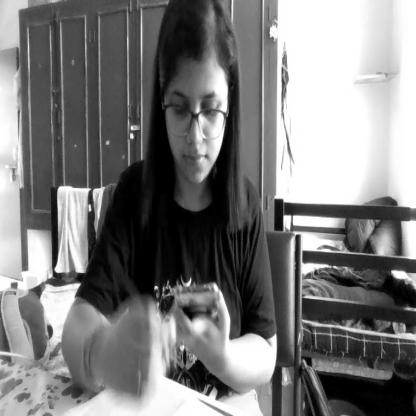Normal: (155, 1, 234, 193)
